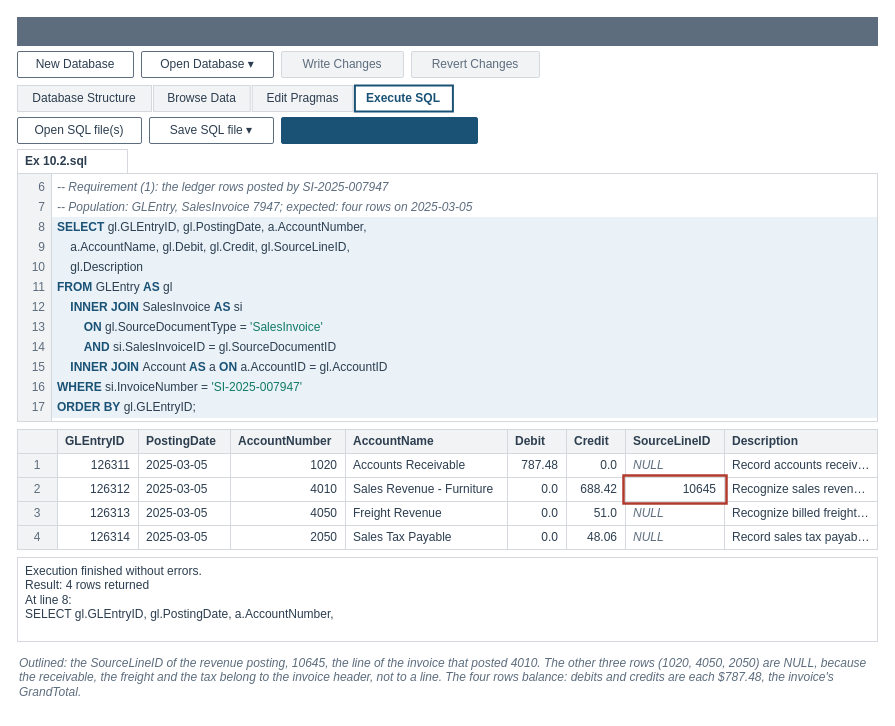
The diagram is 895 pixels wide and 726 high, and some of its shapes have lost their labels. The shapes that lost their labels are listed below. From the top down, each one's centre as x and y in pixels, then its label:
At point (447, 31): "DB Browser for SQLite - C:\Users\you\Documents\CharlesRiver_Work.sqlite".
At point (379, 130): "▶ Execute all/selected SQL".
